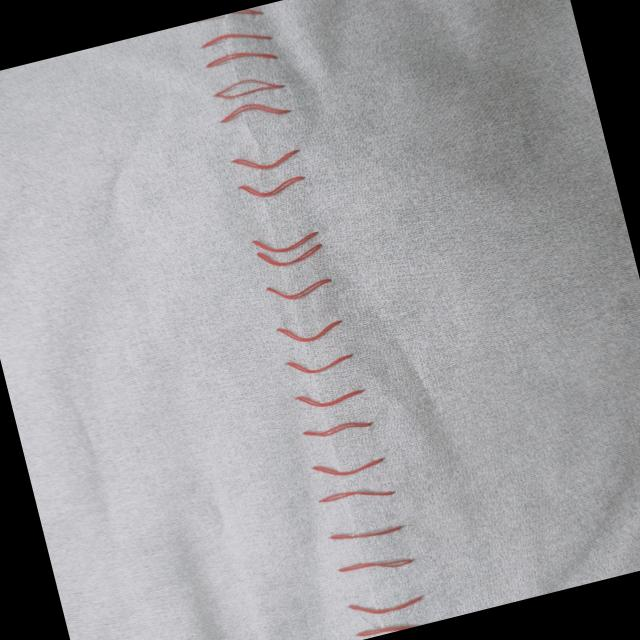gray stitch: (196, 3, 436, 640)
